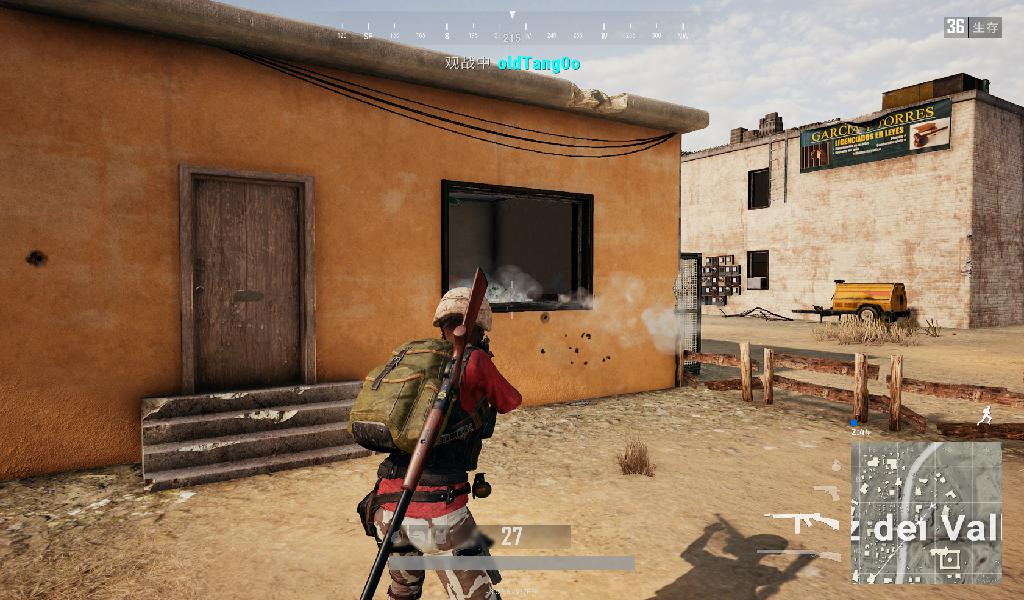Target Person: (350, 285, 525, 600)
